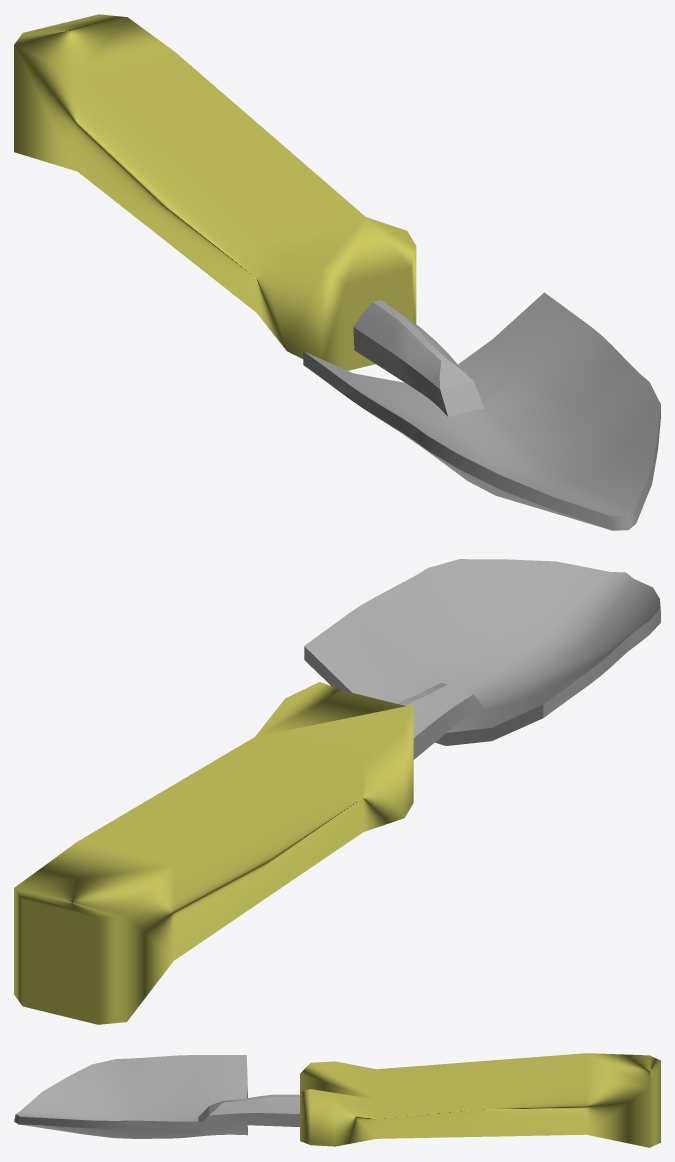
File: Hand Trowel.fbx
3 renders of one model, top to bottom at view 1: azimuth 30°, elevation 25°; view 2: azimuth 150°, elevation 25°; view 3: azimuth 270°, elevation 25°, orthographic. The views are drawn at different scales.
Visible parts, largest first — view 1: TrowelHandle, Spade; view 2: TrowelHandle, Spade; view 3: TrowelHandle, Spade.
Part boxes in pixels (x1,y1,x2,y2): TrowelHandle: [14, 14, 416, 370]; Spade: [303, 292, 660, 530]; TrowelHandle: [14, 682, 413, 1024]; Spade: [304, 559, 660, 759]; TrowelHandle: [300, 1053, 660, 1147]; Spade: [14, 1055, 299, 1138].
Bounding box in the file's own units: 9.38 × 4.44 × 38.4.
1 material, 1 textured.
